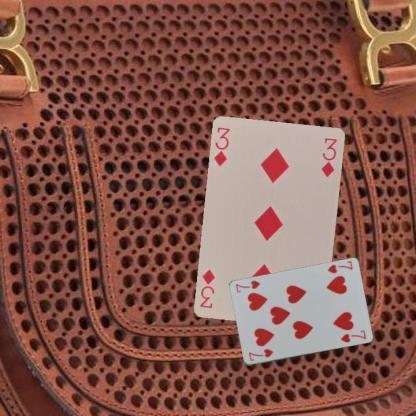3d: (212, 125, 232, 168)
7h: (324, 258, 354, 274), (246, 346, 274, 362)
